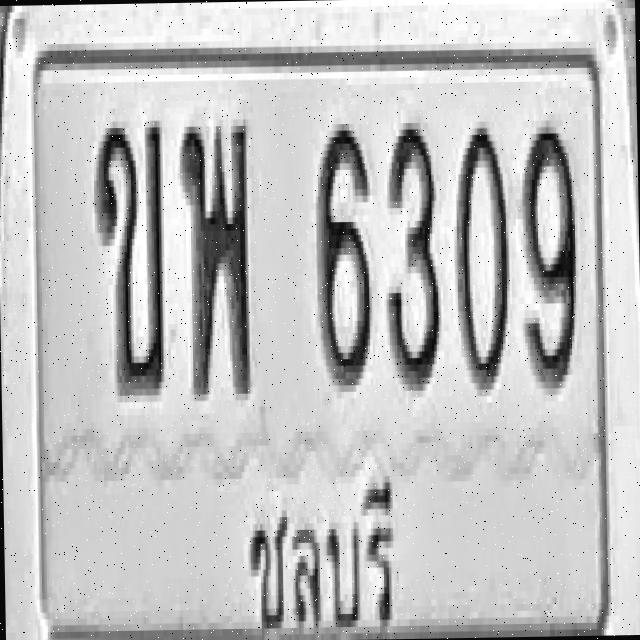0: (454, 120, 509, 390)
11KhorKhai: (92, 117, 166, 393)
3: (384, 116, 439, 390)
39PhorPan: (178, 115, 252, 398)
6: (316, 117, 372, 386)
9: (521, 120, 577, 388)
Chonburi: (235, 441, 405, 640)
